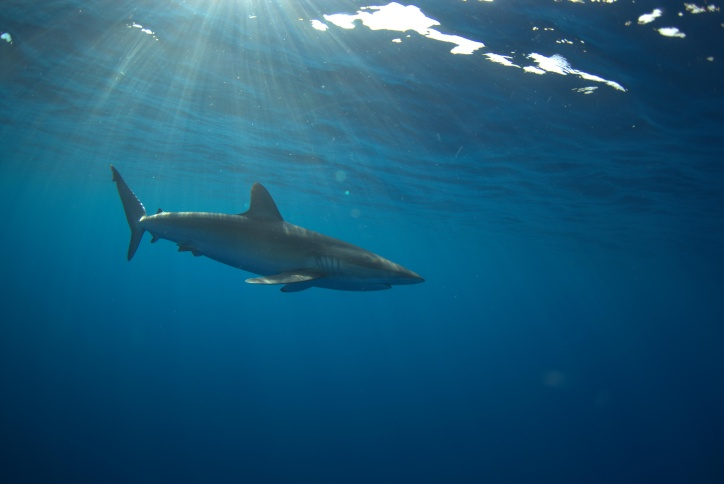Sedoso: (75, 154, 437, 320)
